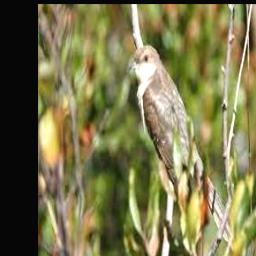Cuckoo: (127, 45, 237, 252)
